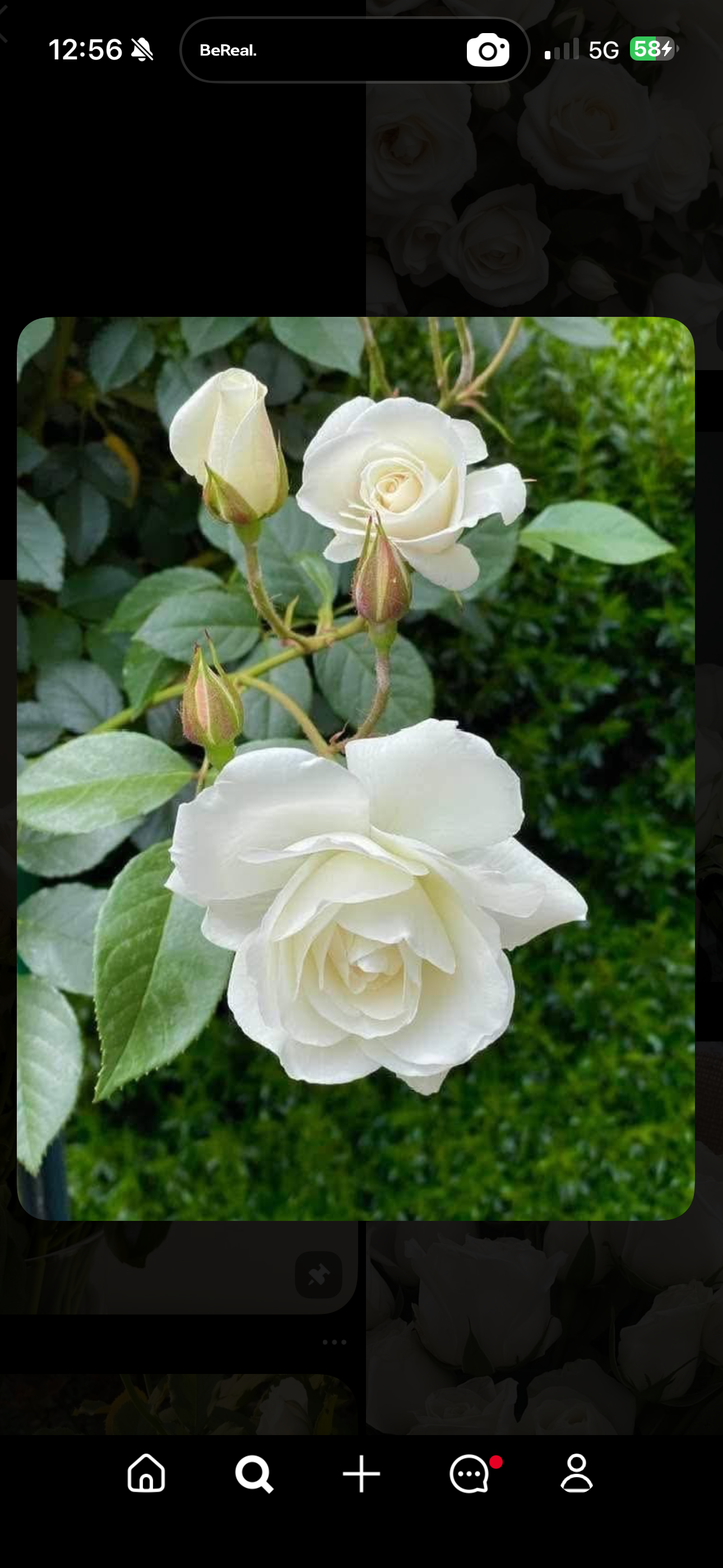rose: (163, 714, 592, 1101), (291, 392, 525, 585)
